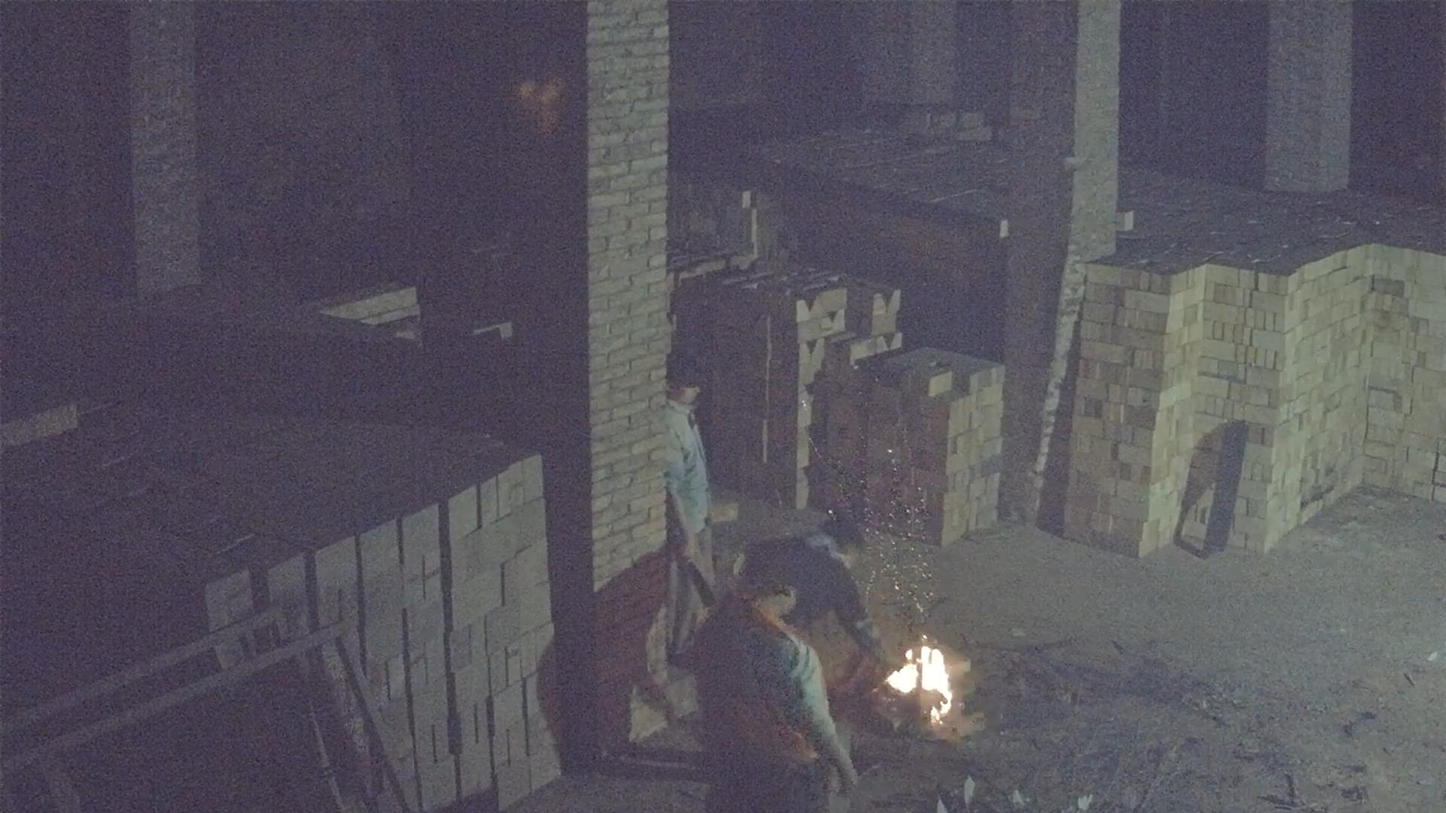fire: (886, 644, 953, 725)
